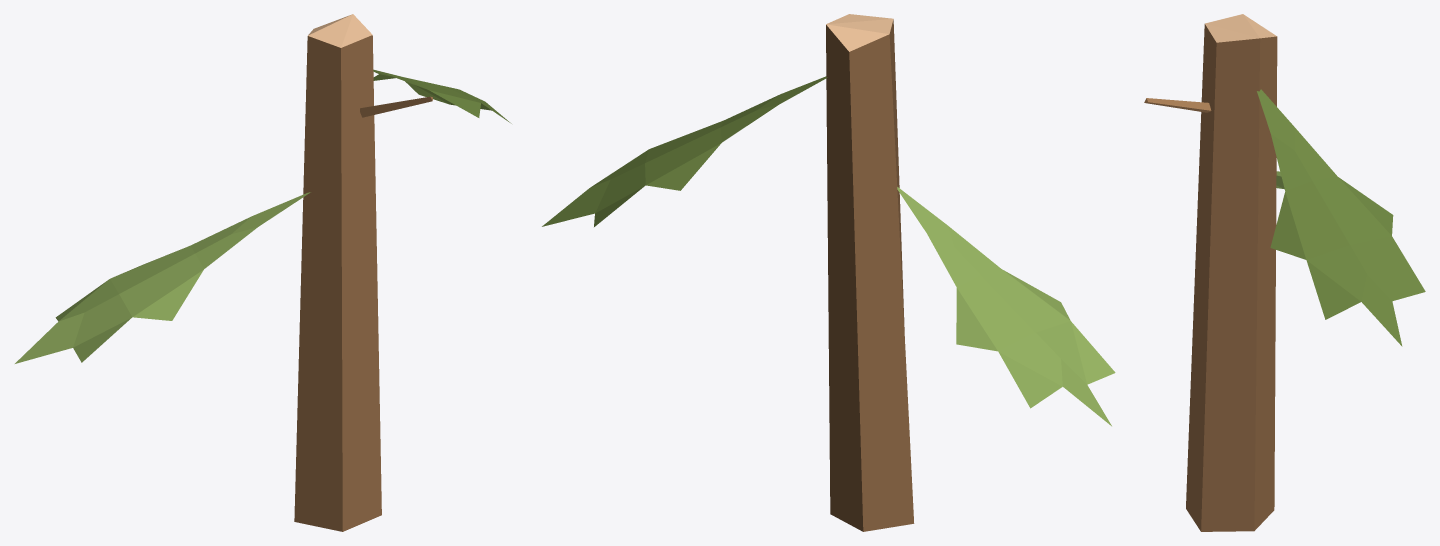
File: Dead_Pine_Tree_crk_OneSided_l_03_LOD.fbx
The picture shows the model from 3 angles, left to right: view 1: azimuth 30°, elevation 25°; view 2: azimuth 150°, elevation 25°; view 3: azimuth 270°, elevation 25°; orthographic projection. The views are drawn at different scales.
Parts seen in each view (by area): view 1: Dead_Pine_Tree_crk_OneSided_l_03_LOD0; view 2: Dead_Pine_Tree_crk_OneSided_l_03_LOD0; view 3: Dead_Pine_Tree_crk_OneSided_l_03_LOD0.
Part boxes in pixels (x1=…): Dead_Pine_Tree_crk_OneSided_l_03_LOD0: x1=15, y1=14, x2=511, y2=531; Dead_Pine_Tree_crk_OneSided_l_03_LOD0: x1=542, y1=14, x2=1115, y2=531; Dead_Pine_Tree_crk_OneSided_l_03_LOD0: x1=1144, y1=14, x2=1425, y2=531.
Size of what is drawn, in the model's own units: 463 by 410 by 212.
